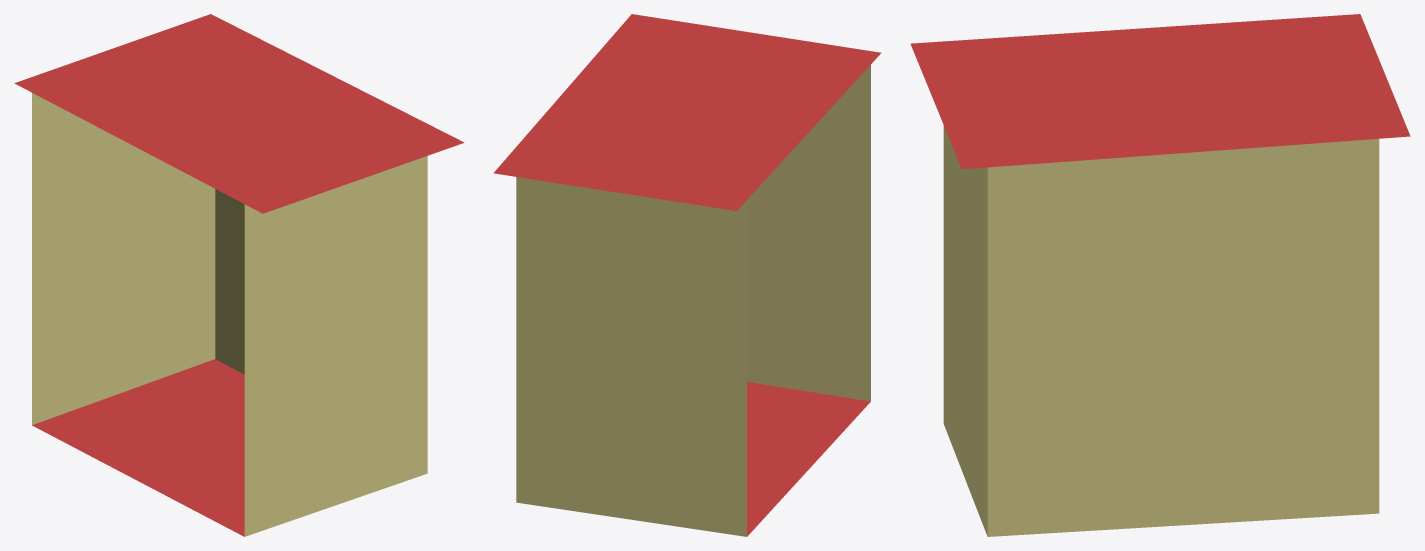
The picture shows the model from 3 angles, left to right: view 1: azimuth 30°, elevation 25°; view 2: azimuth 150°, elevation 25°; view 3: azimuth 270°, elevation 25°; orthographic projection. The views are drawn at different scales.
Bounding box in the file's own units: 5.08 × 6.91 × 5.83.
